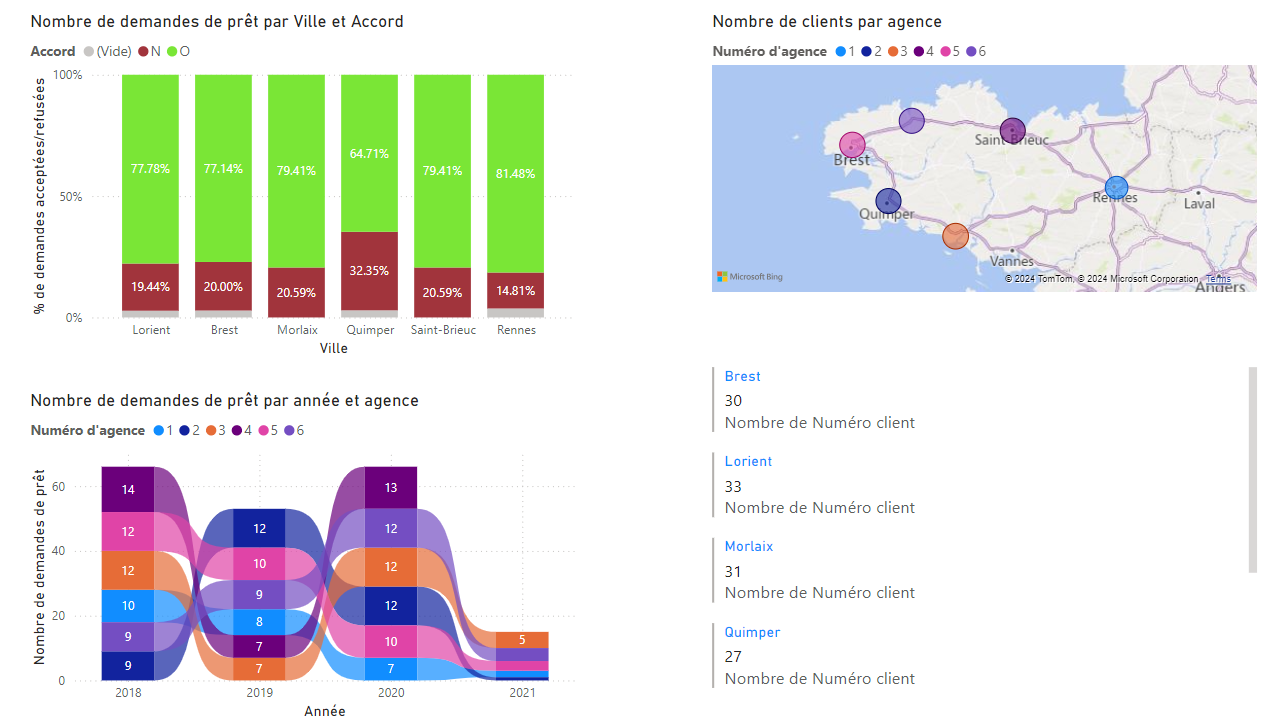

Layout of this report page (visuals, bound fields, positions):
{"tool":"powerbi","page":{"name":"Performance des agences","canvas":[1280,720],"ordinal":3},"visuals":[{"type":"map","title":"Nombre de client par agence","fields":{"Series":["Agences.Numéro d'agence"],"Size":["CountNonNull(Demandes de pret.Numéro client)"],"Category":["Agences.Localisation"]},"box":[740.2,17.5,539.8,278.2],"z":0},{"type":"multiRowCard","fields":{"Values":["Agences.Ville","Demandes de pret.Numéro client"]},"box":[740,325,540,326],"z":1000},{"type":"hundredPercentStackedColumnChart","title":"Nombre de demandes de prêt par Ville et Accord","fields":{"Category":["Agences.Ville"],"Y":["Count(Demandes de pret.Numéro demande de prêt)"],"Series":["Demandes de pret.Accord"]},"box":[0,18,540,278],"z":2000},{"type":"ribbonChart","title":"Nombre de demandes de prêt par année et agence","fields":{"Category":["Demandes de pret.Date de demande.Variation.Date Hierarchy.Year","Demandes de pret.Date de demande.Variation.Date Hierarchy.Quarter","Demandes de pret.Date de demande.Variation.Date Hierarchy.Month","Demandes de pret.Date de demande.Variation.Date Hierarchy.Day"],"Series":["Demandes de pret.Numéro d'agence"],"Y":["Count(Demandes de pret.Numéro demande de prêt)"]},"box":[0,325,540,326],"z":3000}]}

Visuals, with their boxes in screenshot pixels (x1, y1, x2, y2), scaled from the page's 1280x720 canvas onto the 1283x727 screenshot:
"Nombre de client par agence" map: 742:18:1282:299
multiRowCard - Agences.Ville x Demandes de pret.Numéro client: 742:328:1282:657
"Nombre de demandes de prêt par Ville et Accord" hundredPercentStackedColumnChart: 0:18:541:299
"Nombre de demandes de prêt par année et agence" ribbonChart: 0:328:541:657
